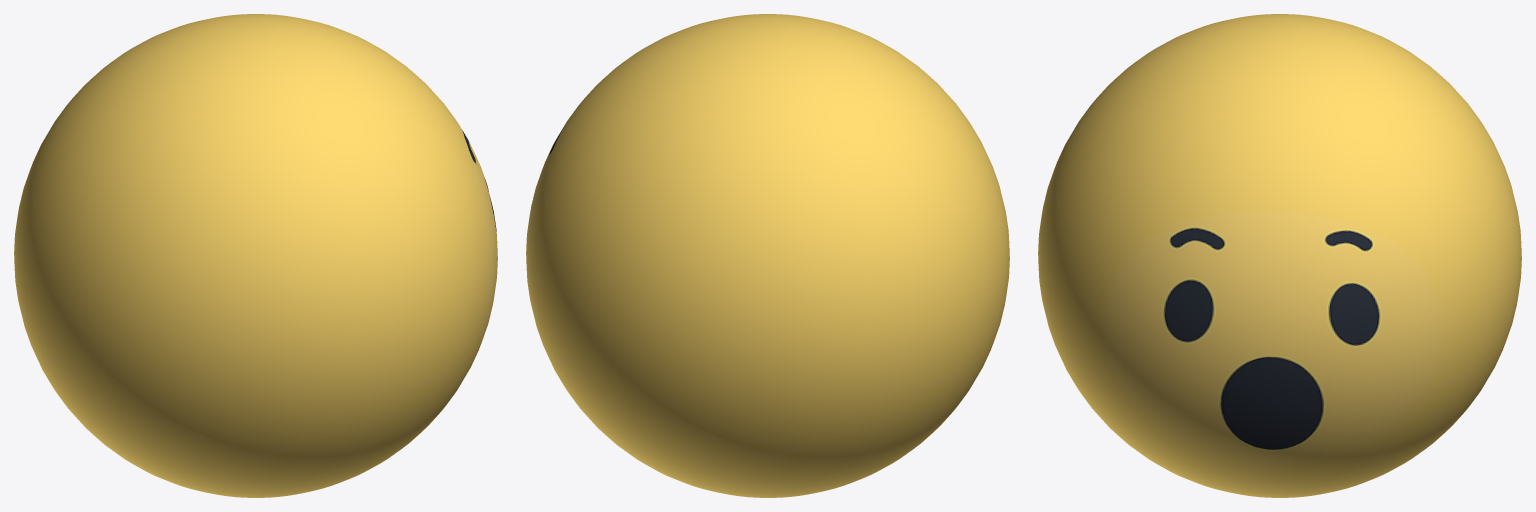
The model's file is Emoji-02new.fbx.
3 renders of one model, left to right at view 1: azimuth 30°, elevation 25°; view 2: azimuth 150°, elevation 25°; view 3: azimuth 270°, elevation 25°, orthographic.
Visible parts, largest first — view 1: Emoji_02; view 2: Emoji_02; view 3: Emoji_02.
Part boxes in pixels (<box>): Emoji_02: <box>14,14,497,497</box>; Emoji_02: <box>526,14,1009,497</box>; Emoji_02: <box>1038,14,1521,497</box>.
Size of the model in its own units: 14.27 by 14.27 by 14.27.
Materials: 1 (1 with a texture image).
